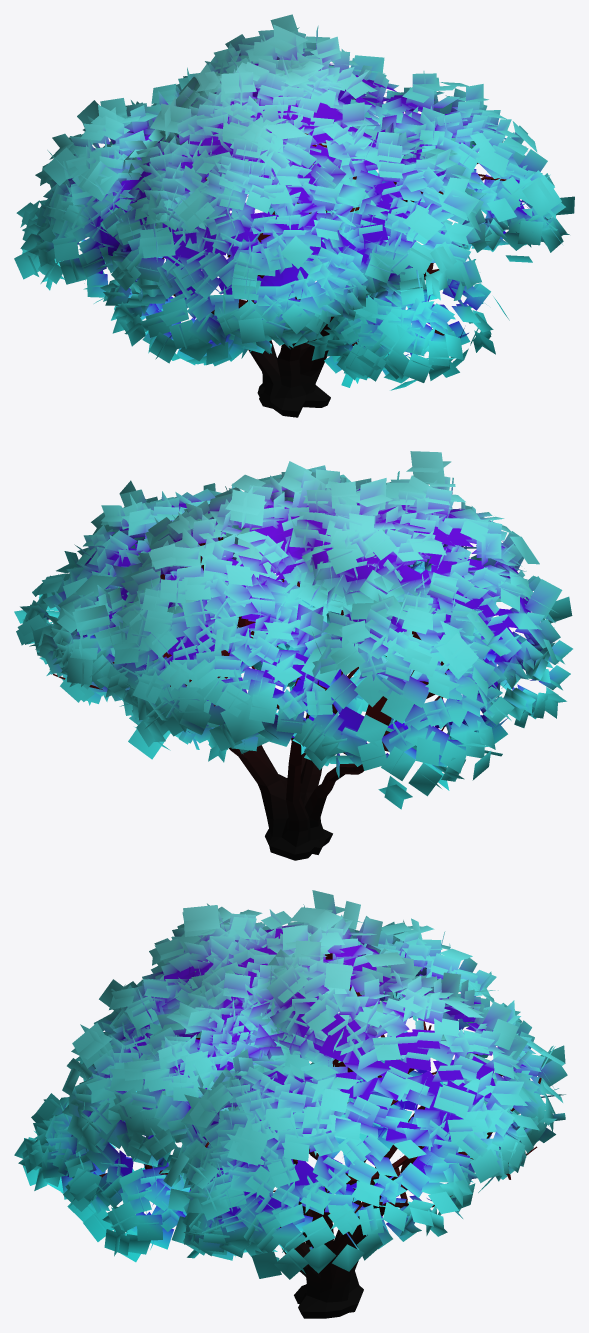
The model's file is SM_Env_Tree_Pohutukawa_02.gltf.
The picture shows the model from 3 angles, top to bottom: view 1: azimuth 30°, elevation 25°; view 2: azimuth 150°, elevation 25°; view 3: azimuth 270°, elevation 25°; orthographic projection. The views are drawn at different scales.
Visible parts, largest first — view 1: SM_Env_Tree_Pohutukawa_02_LOD0; view 2: SM_Env_Tree_Pohutukawa_02_LOD0, SM_Env_Tree_Pohutukawa_02_Branches_LOD0; view 3: SM_Env_Tree_Pohutukawa_02_LOD0.
Part boxes in pixels (x1,y1,x2,y2): SM_Env_Tree_Pohutukawa_02_LOD0: [14, 14, 574, 417]; SM_Env_Tree_Pohutukawa_02_LOD0: [14, 451, 572, 860]; SM_Env_Tree_Pohutukawa_02_Branches_LOD0: [160, 537, 449, 725]; SM_Env_Tree_Pohutukawa_02_LOD0: [14, 890, 567, 1318].
Bounding box in the file's own units: 8.64 × 5.97 × 8.03.
